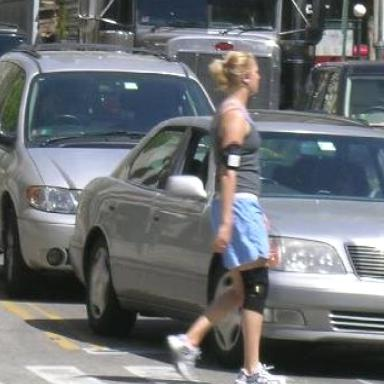ped: (170, 51, 288, 384)
